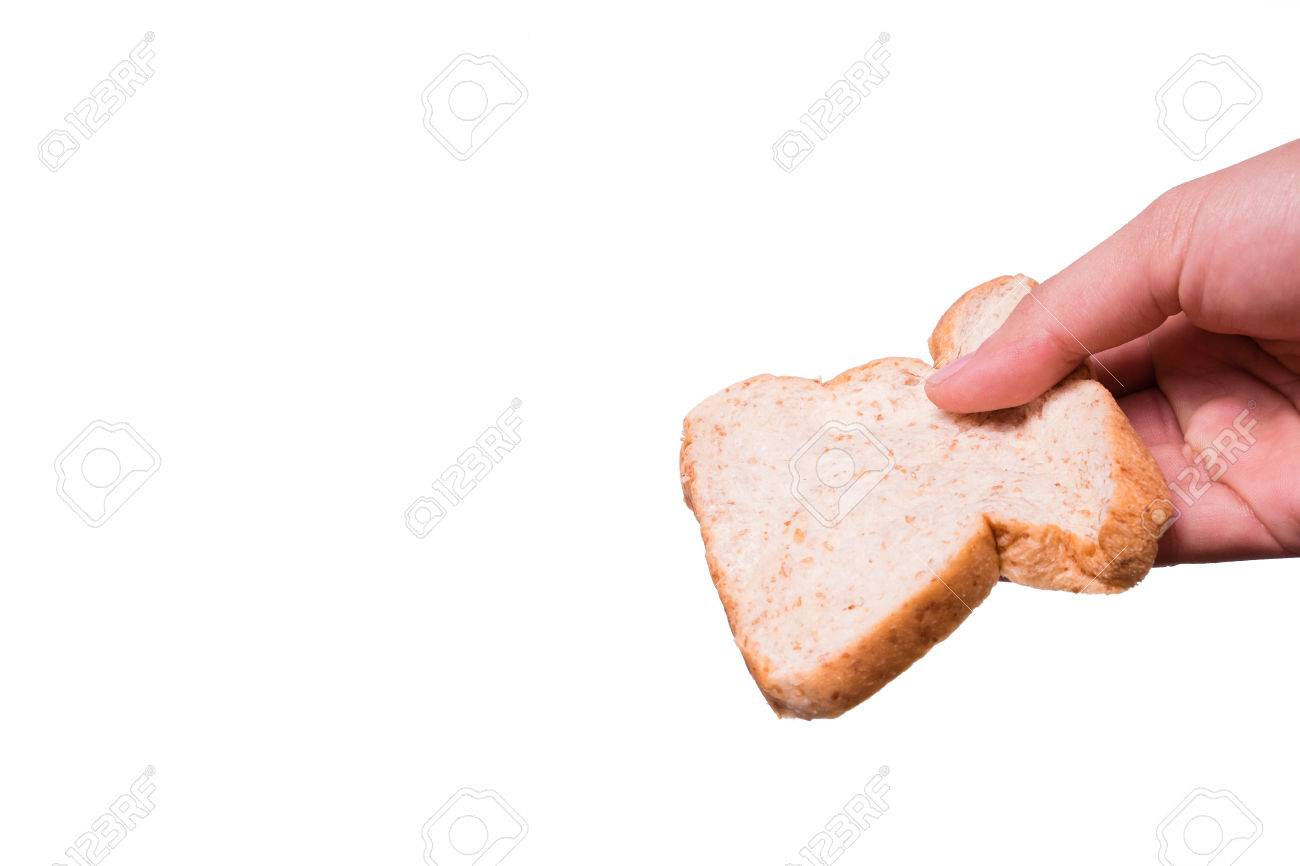slice of bread: (663, 333, 1187, 700)
